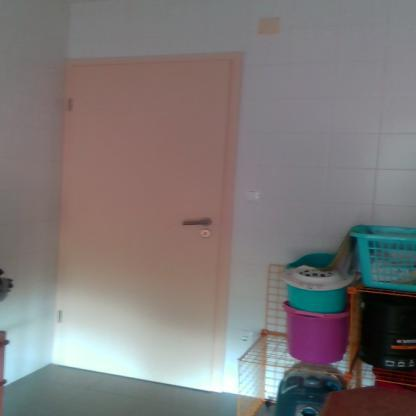door: (60, 63, 220, 386)
hinged: (66, 96, 74, 113), (56, 310, 62, 324)
lever: (180, 219, 211, 227)
